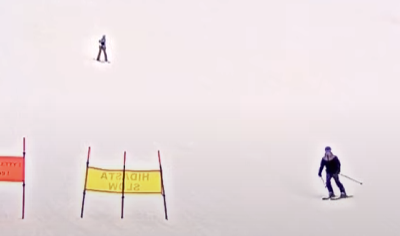skier: (312, 146, 363, 201), (93, 35, 111, 64)
